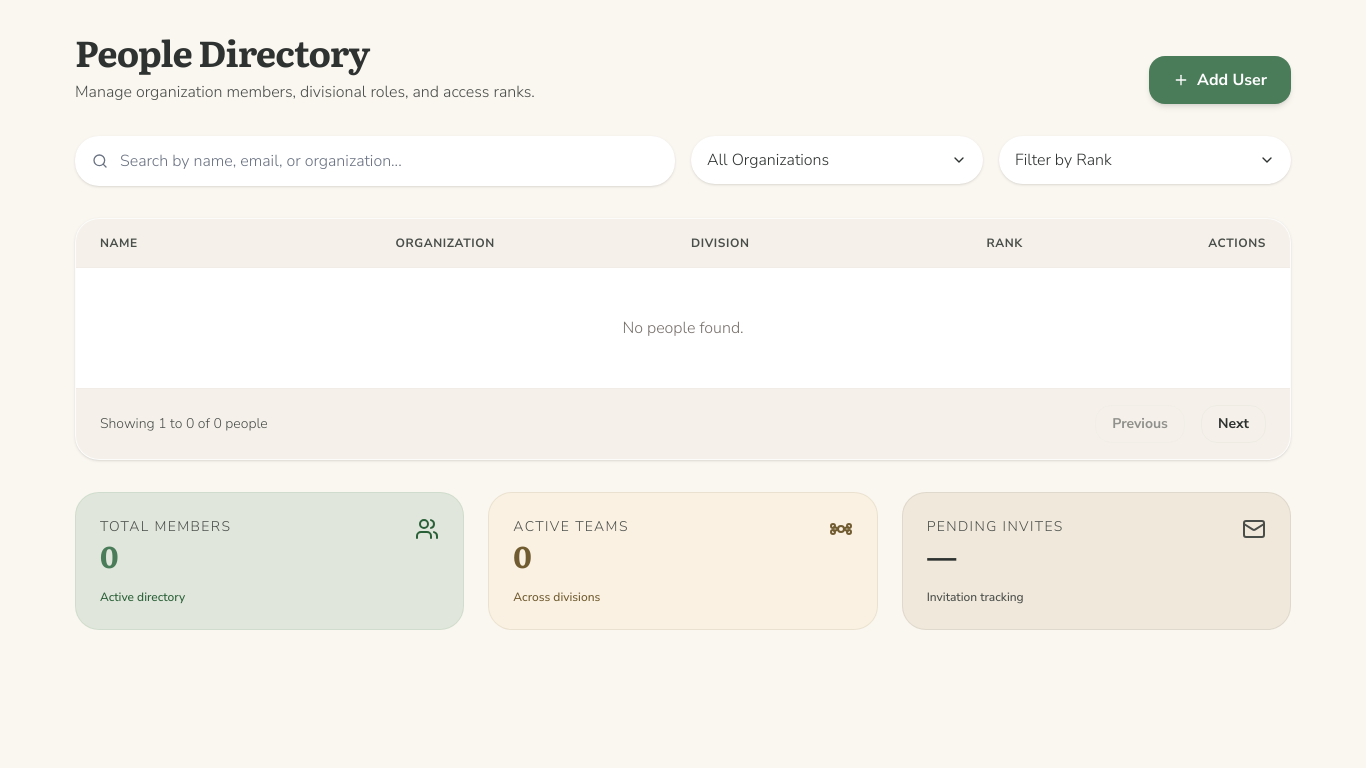
Test: DirectoryClient › opens AddUserModal when clicking "Add User"
Click the button "Add User": (1220, 80) x1=1149 y1=56 x2=1291 y2=104
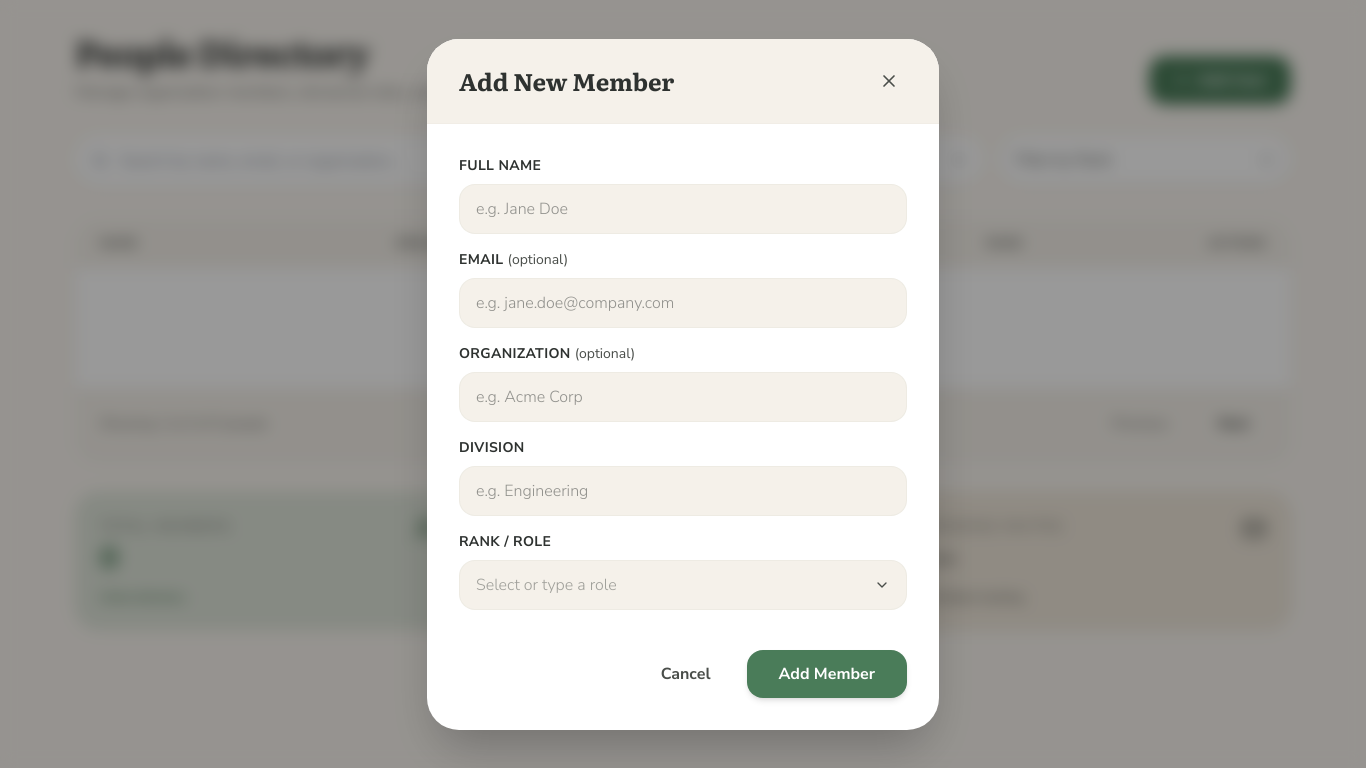
Result: the heading "Add New Member" is shown at x1=459 y1=64 x2=674 y2=96
Result: the field labelled "Full Name" is shown at x1=459 y1=184 x2=907 y2=234
